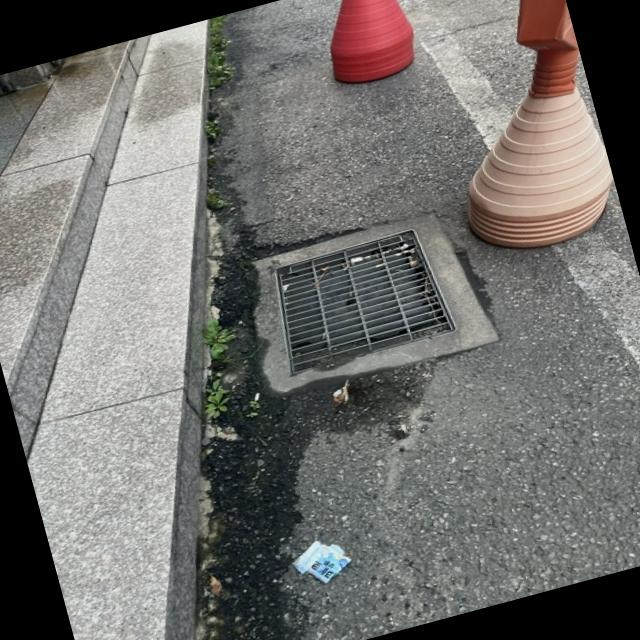drain_area: (285, 254, 436, 354)
drain_full: (277, 233, 452, 372)
